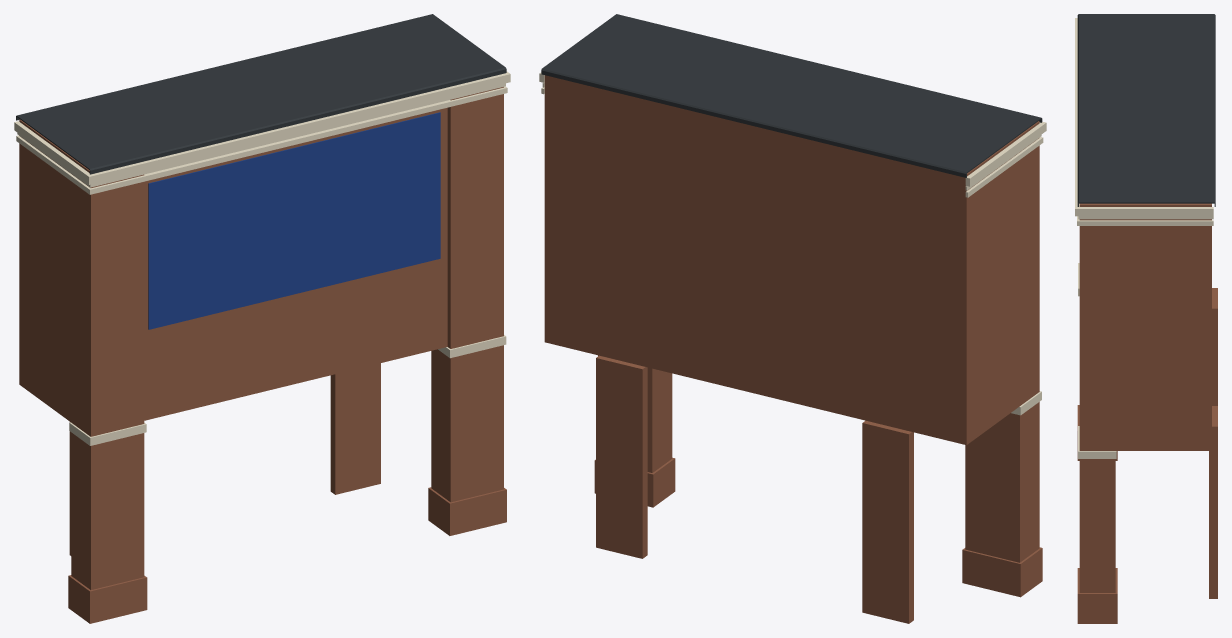
File: storefront-entry-flat-parapet.glb
3 renders of one model, left to right at view 1: azimuth 30°, elevation 25°; view 2: azimuth 150°, elevation 25°; view 3: azimuth 270°, elevation 25°, orthographic. The views are drawn at different scales.
Parts seen in each view (by area): view 1: flat-parapet-FacadeBrick, flat-parapet-FacadeTile, flat-parapet-FacadeCoping, flat-parapet-FacadeTrim, flat-parapet-FacadeSoldierBrick; view 2: flat-parapet-FacadeBrick, flat-parapet-FacadeCoping, flat-parapet-FacadeSoldierBrick, flat-parapet-FacadeTrim; view 3: flat-parapet-FacadeBrick, flat-parapet-FacadeCoping, flat-parapet-FacadeTrim, flat-parapet-FacadeSoldierBrick.
Boxes of the visible parts, box(x1,y1,x2,y2) form: flat-parapet-FacadeBrick: box(19, 87, 503, 589); flat-parapet-FacadeTile: box(148, 112, 440, 329); flat-parapet-FacadeCoping: box(16, 14, 506, 174); flat-parapet-FacadeTrim: box(14, 71, 510, 445); flat-parapet-FacadeSoldierBrick: box(68, 487, 506, 623); flat-parapet-FacadeBrick: box(544, 75, 1039, 623); flat-parapet-FacadeCoping: box(541, 14, 1042, 177); flat-parapet-FacadeSoldierBrick: box(594, 457, 1042, 597); flat-parapet-FacadeTrim: box(539, 72, 1046, 415); flat-parapet-FacadeBrick: box(1079, 203, 1217, 598); flat-parapet-FacadeCoping: box(1077, 14, 1215, 206); flat-parapet-FacadeTrim: box(1075, 18, 1213, 458); flat-parapet-FacadeSoldierBrick: box(1077, 405, 1117, 623).
Size of the model in its own units: 21.74 by 22.38 by 6.88.
